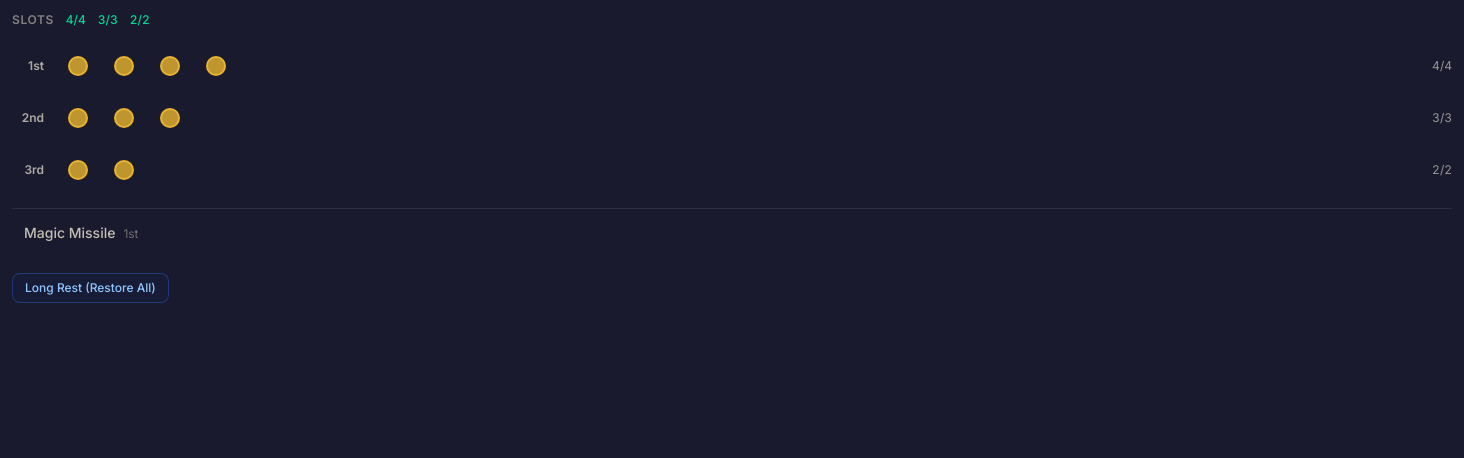
it: SpellSlotTracker › should open cast prompt when a spell is clicked
Step 1. Click the button with test id "spell-cast-magic-missile" → [70, 232], box [12,217,1452,249]
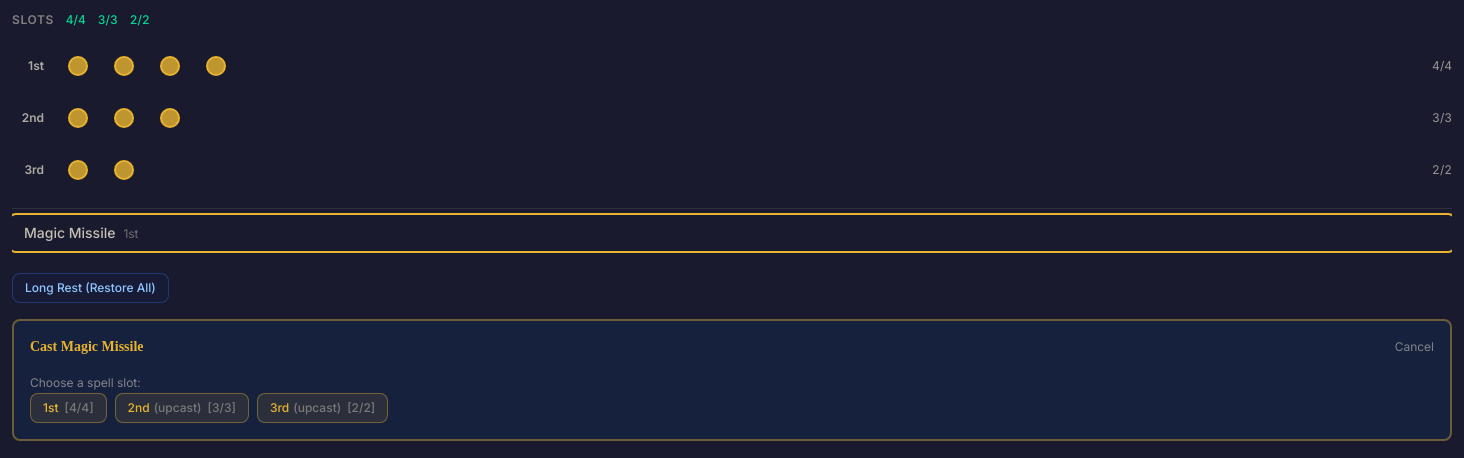
Expected: the element with test id "cast-spell-prompt" is shown, [12,319,1452,441]
